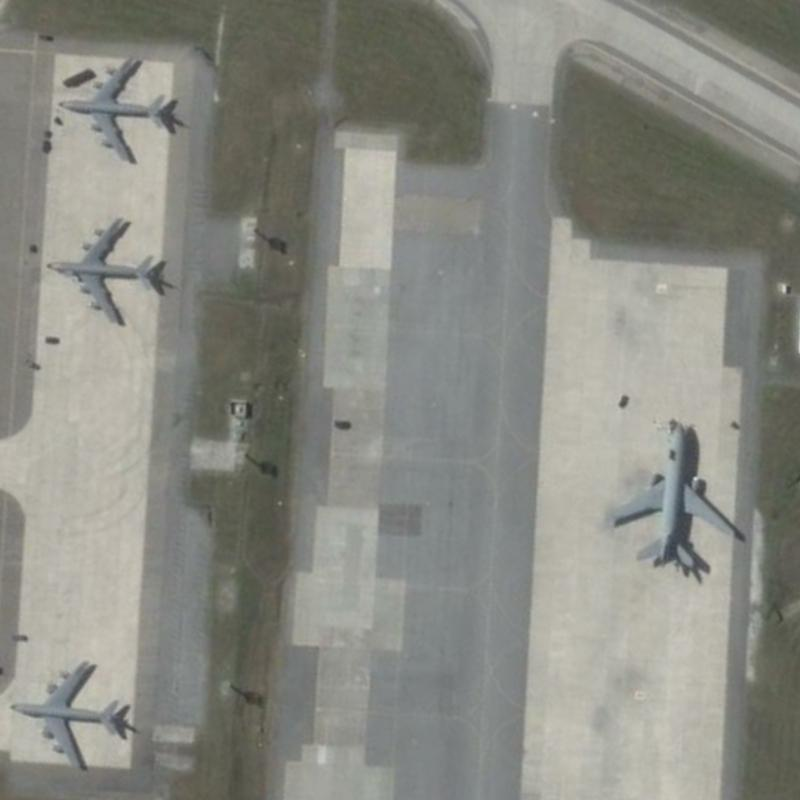A14: (6, 652, 140, 779), (36, 212, 163, 328), (54, 54, 179, 163)
A18: (604, 416, 742, 576)
